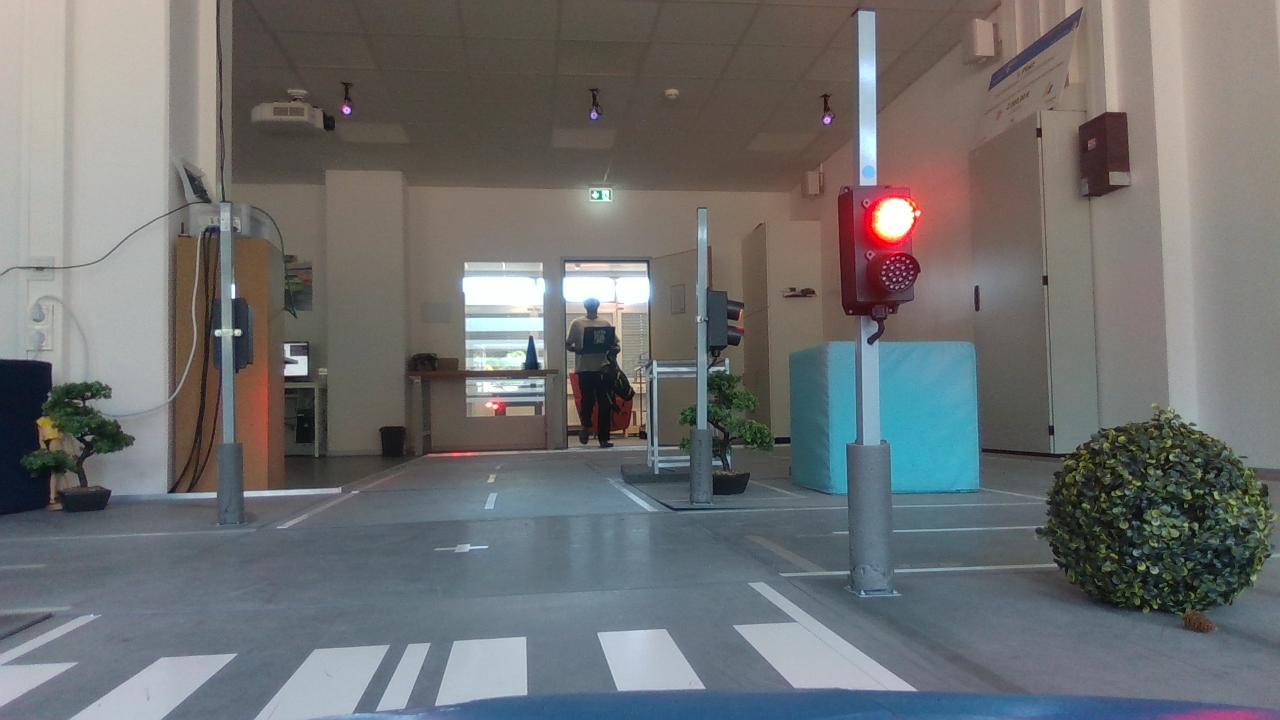traffic_light_red: (832, 177, 934, 319)
